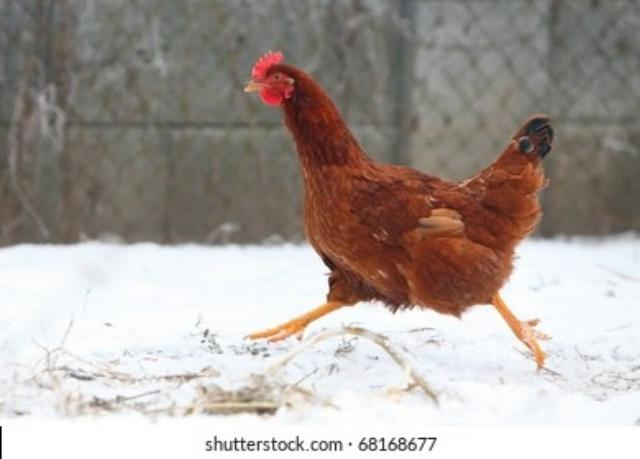Chicken: (243, 51, 554, 367)
